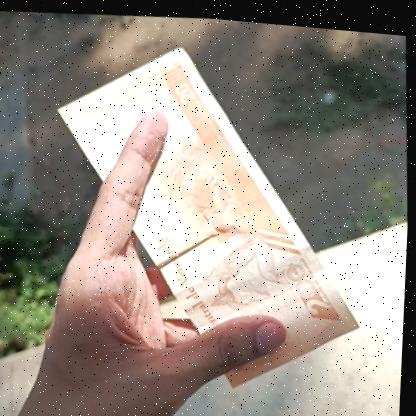twenty-back-vef: (40, 22, 415, 413)
